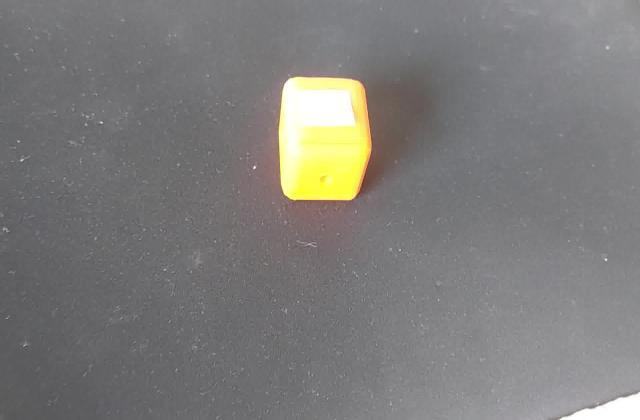cube: (268, 70, 374, 207)
white: (290, 86, 358, 136)
